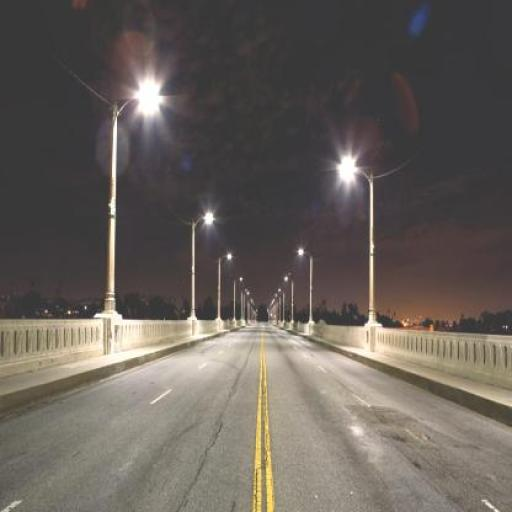street light: (106, 88, 156, 312), (340, 161, 375, 325), (192, 214, 213, 318), (298, 250, 312, 322), (218, 253, 231, 317), (284, 277, 293, 320), (234, 277, 243, 317)
